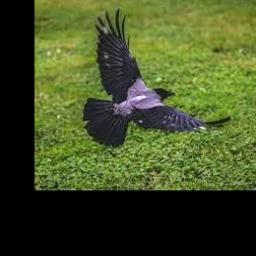Crow: (83, 9, 232, 148)
